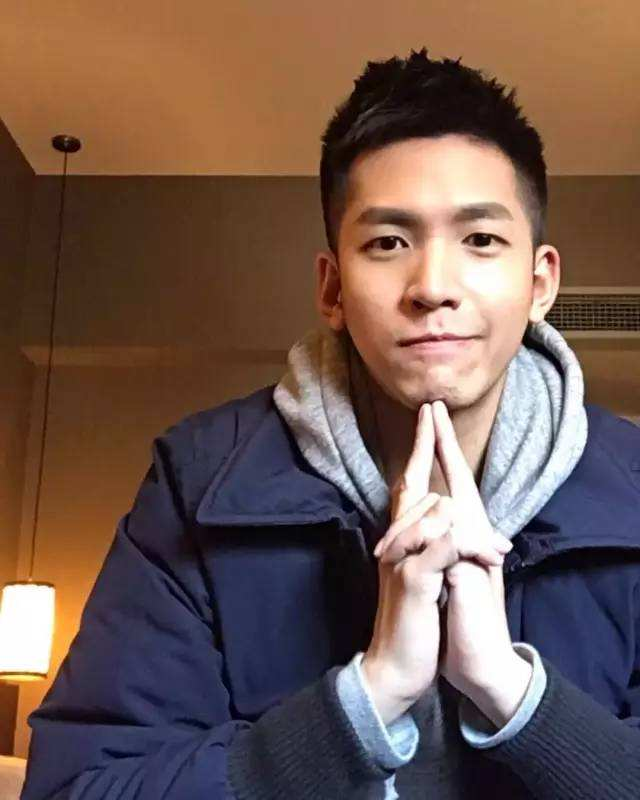person: (230, 84, 580, 679)
